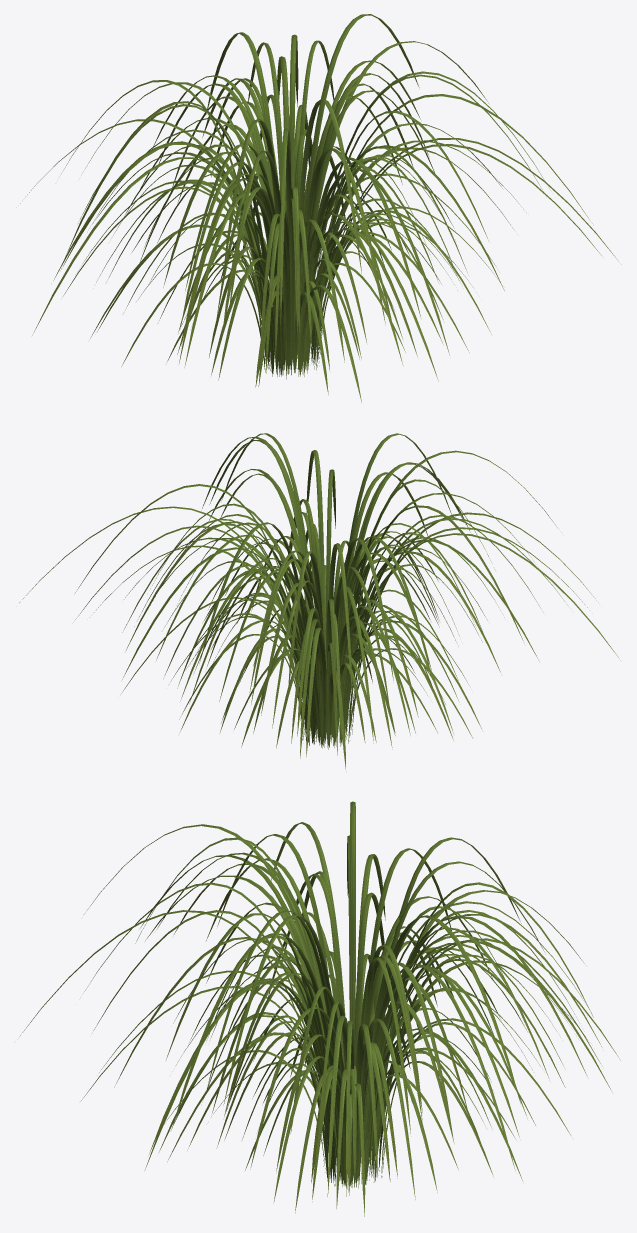
The model's file is n-grass.glb.
The picture shows the model from 3 angles, top to bottom: view 1: azimuth 30°, elevation 25°; view 2: azimuth 150°, elevation 25°; view 3: azimuth 270°, elevation 25°; orthographic projection. The views are drawn at different scales.
Parts seen in each view (by area): view 1: Foliage; view 2: Foliage; view 3: Foliage.
Part boxes in pixels (box(x1,y1,x2,y2)): Foliage: box(20, 14, 621, 402); Foliage: box(19, 433, 620, 771); Foliage: box(20, 801, 620, 1216).
Bounding box in the file's own units: 1.26 × 0.65 × 1.09.
1 material, 1 textured.
